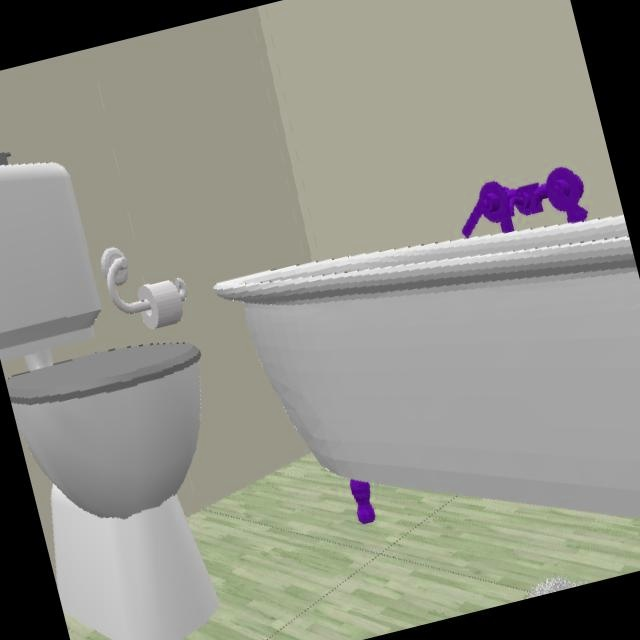bathtube: (213, 214, 640, 523)
toilet: (0, 161, 219, 640)
